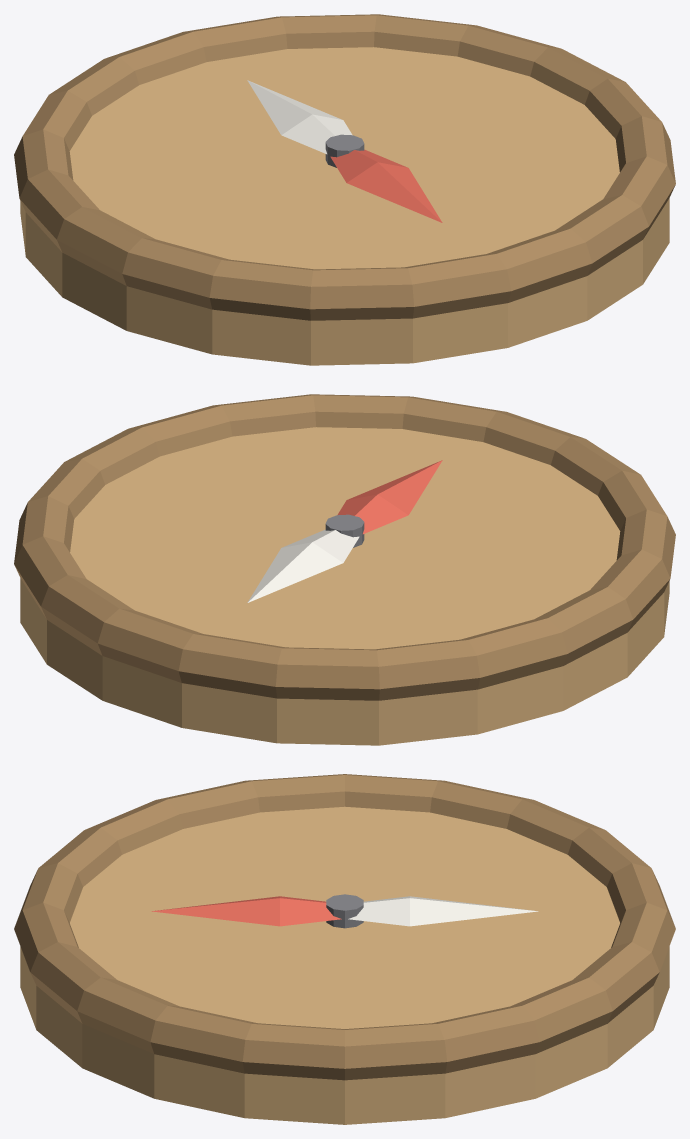
The model's file is compass.glb.
3 views of the same model, one above another, from view 1: azimuth 30°, elevation 25°; view 2: azimuth 150°, elevation 25°; view 3: azimuth 270°, elevation 25° (orthographic).
Bounding box in the file's own units: 2.04 × 0.305 × 2.04.
